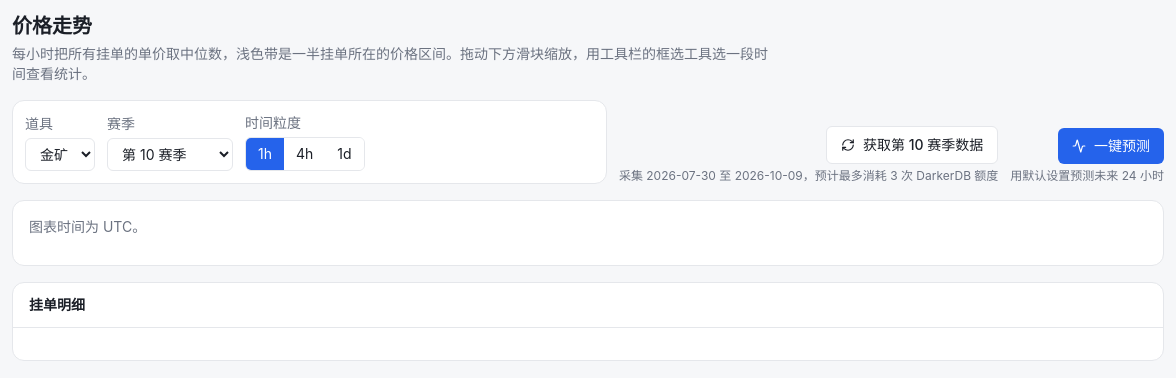
an earlier season with nothing new says its window is already complete
Expected: the text "采集 2026-07-30 至 2026-10-09，预计最多消耗 3 次 DarkerDB 额度" is shown, [619,168,998,184]
Click the button "获取第 10 赛季数据". click: (912, 145)
box: [826,126,998,164]
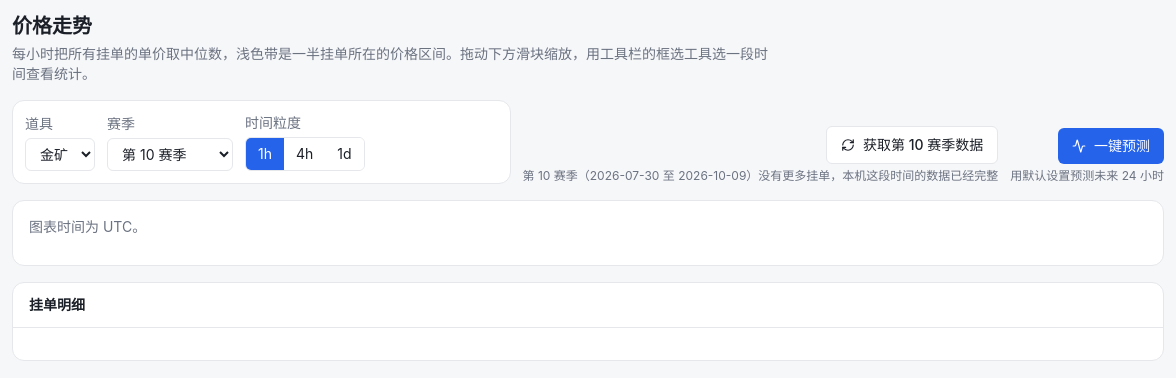
Result: the text "第 10 赛季（2026-07-30 至 2026-10-09）没有更多挂单，本机这段时间的数据已经完整" is shown at [523,168,998,184]
